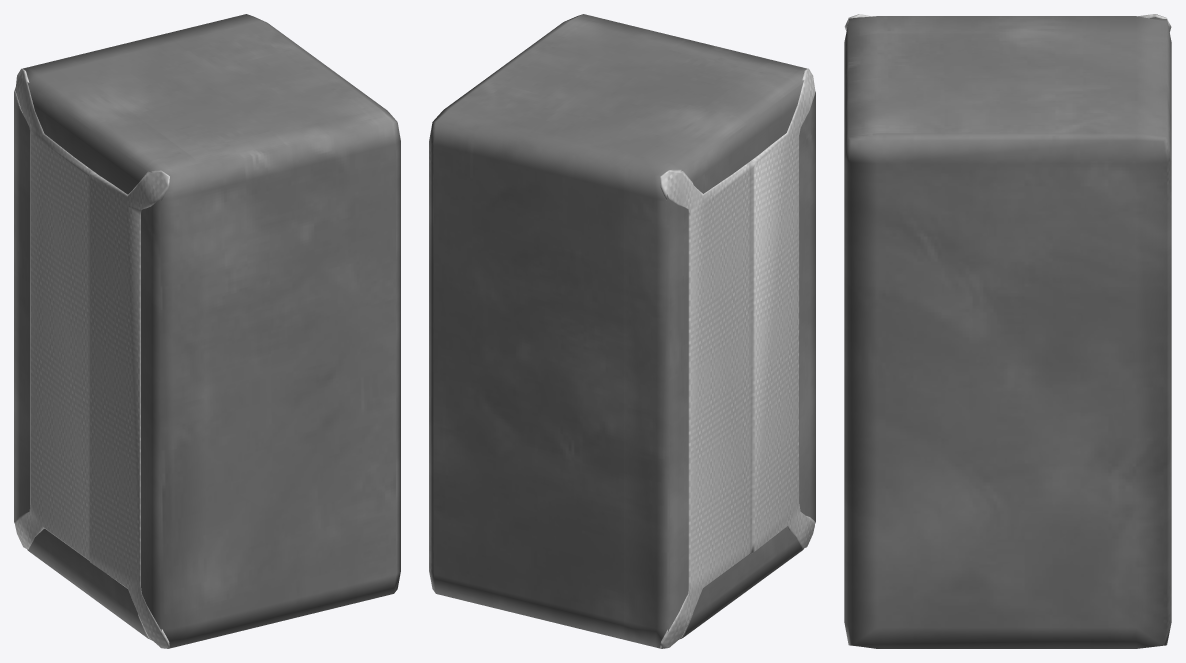
Rendered from kt_napkins.fbx.
The picture shows the model from 3 angles, left to right: view 1: azimuth 30°, elevation 25°; view 2: azimuth 150°, elevation 25°; view 3: azimuth 270°, elevation 25°; orthographic projection. The views are drawn at different scales.
Parts seen in each view (by area): view 1: kt_napkins_LOD0; view 2: kt_napkins_LOD0; view 3: kt_napkins_LOD0.
Boxes of the visible parts, left/top/right/bottom form: kt_napkins_LOD0: left=14, top=14, right=400, bottom=648; kt_napkins_LOD0: left=429, top=14, right=815, bottom=648; kt_napkins_LOD0: left=844, top=14, right=1171, bottom=648.
Size of what is drawn, in the model's own units: 0.0869 by 0.16 by 0.092.
1 material, 1 textured.
